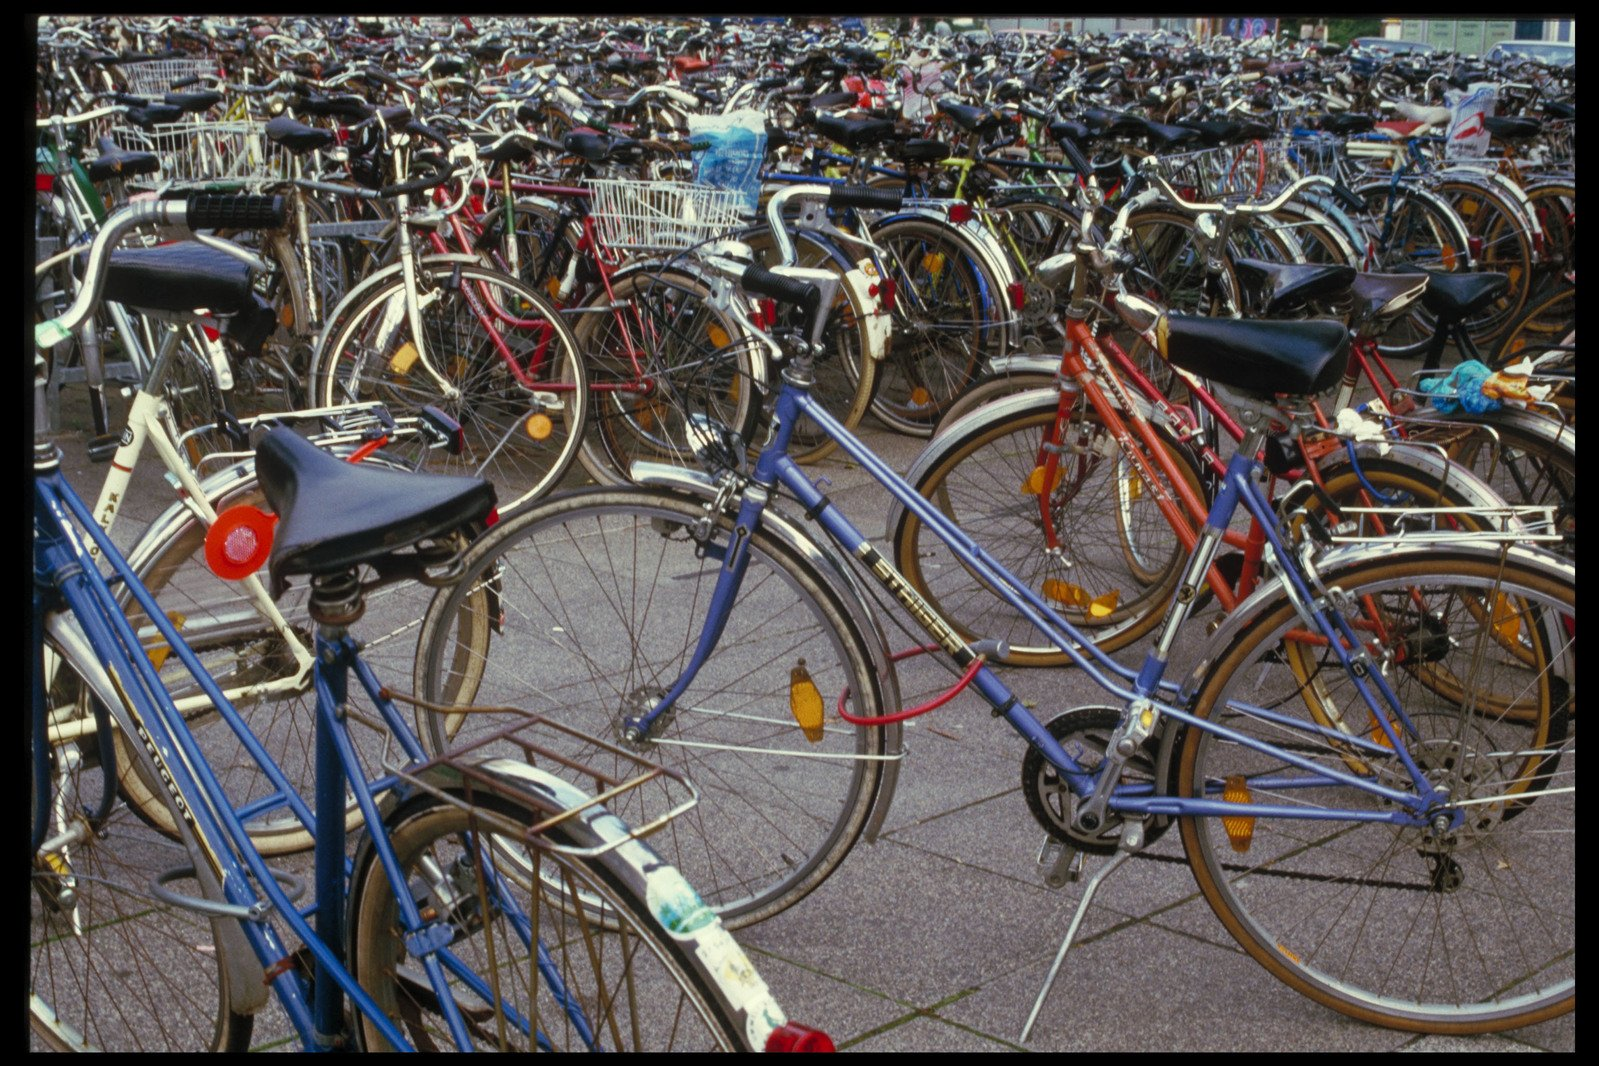Bicycle: (1, 1, 1586, 1027)
